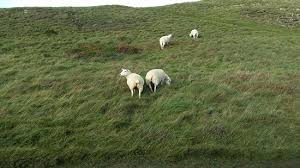sheep: (145, 65, 177, 100), (119, 68, 145, 102), (158, 31, 179, 52), (189, 28, 202, 42)
